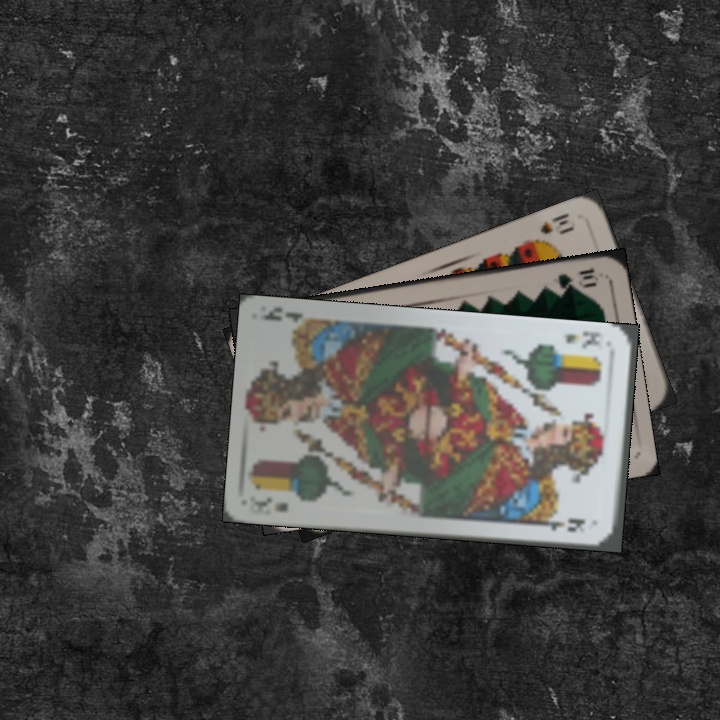EK: (561, 328, 604, 352), (248, 493, 291, 514)
G10: (553, 263, 601, 292)
S10: (525, 209, 577, 248)
